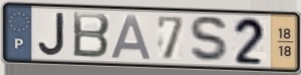2: (231, 14, 269, 69)
7: (155, 14, 186, 62)
A: (109, 13, 154, 61)
B: (71, 10, 112, 60)
J: (36, 12, 67, 58)
S: (188, 14, 232, 65)
